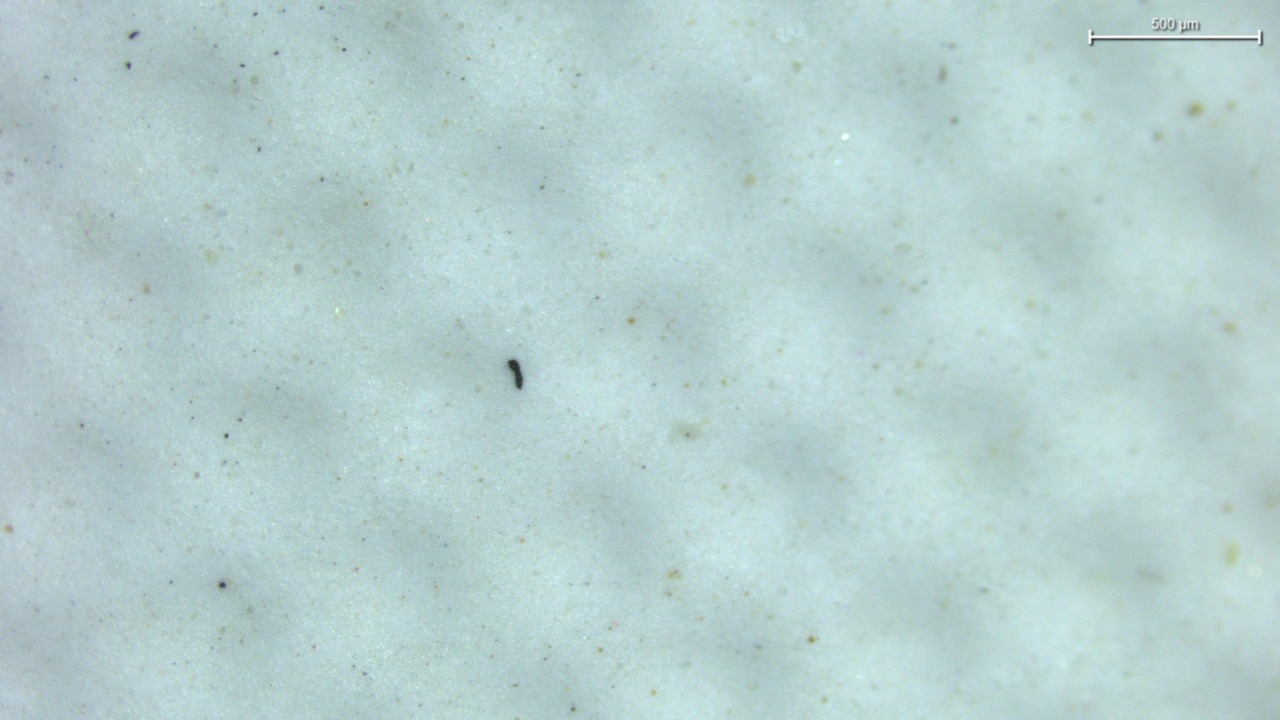microplastic_fragment: (508, 359, 523, 388)
